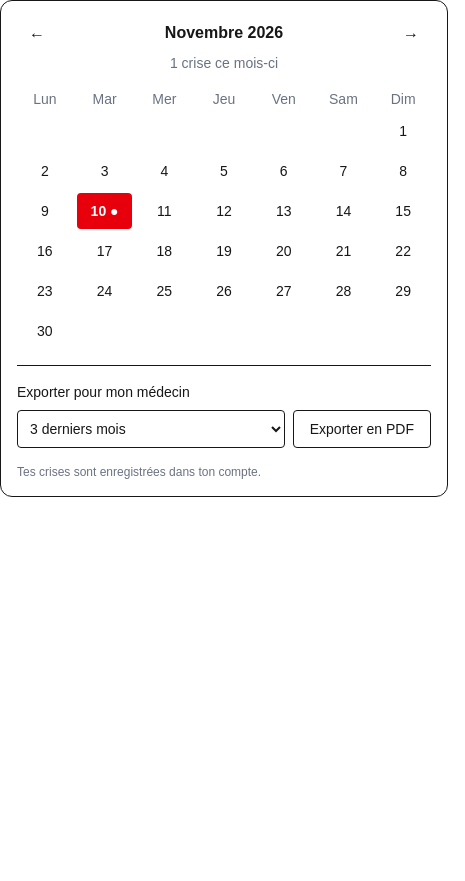
modification d'une crise › en mode personnel : appelle updateSeizure et affiche les nouvelles valeurs
Click the button "10 ●" at [105, 211], box [77,193,132,229]
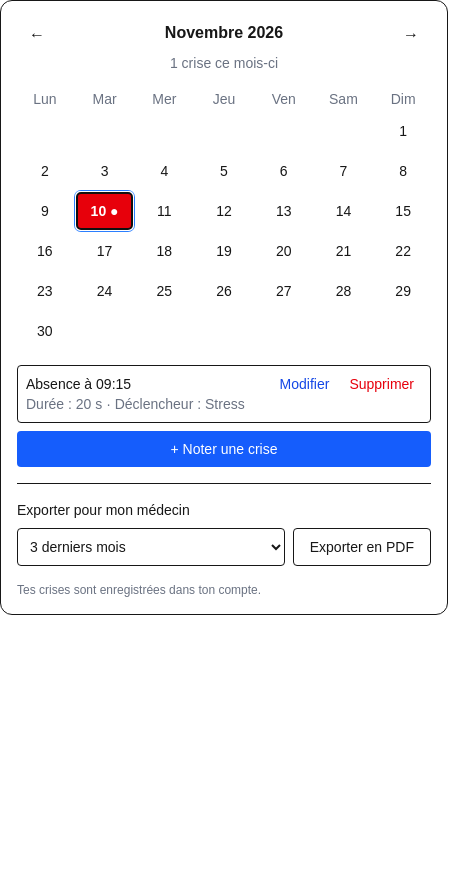
Click the button with aria-label "Modifier cette crise" at [304, 384], box [272,374,337,394]
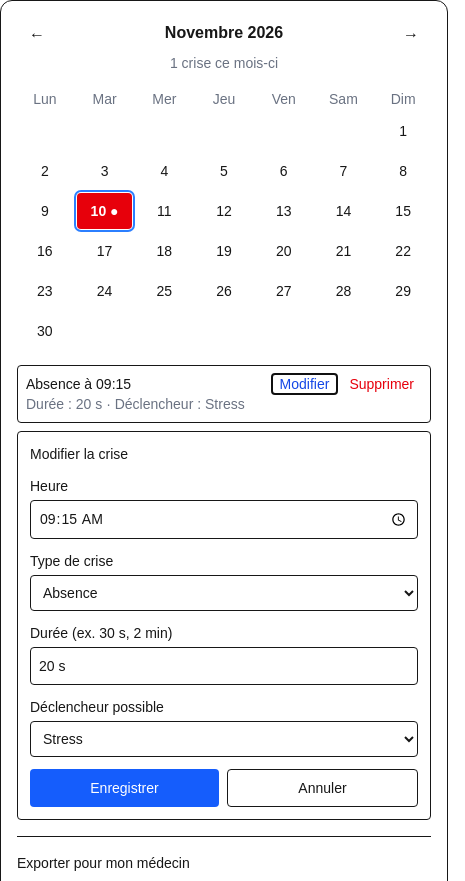
Replace the text in the field labelled "Durée (ex. 30 s, 2 min)" with "45 s" at [224, 666], box [30,647,418,685]
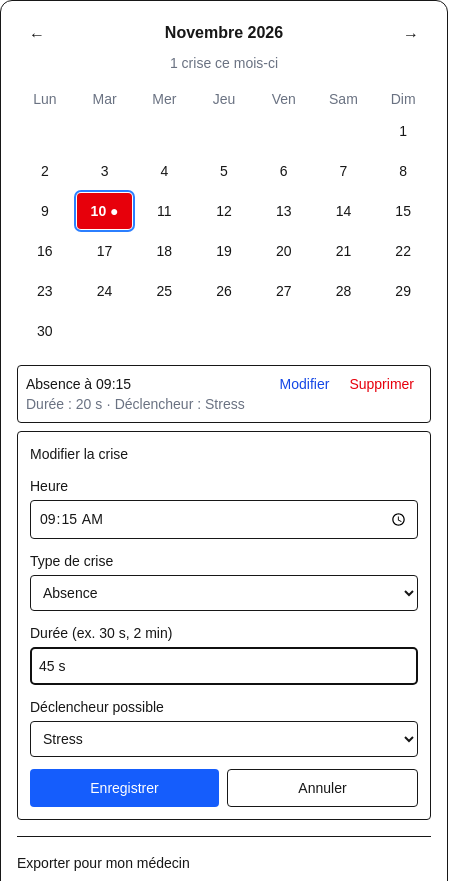
Click the button "Enregistrer" at [124, 788], box [30,769,219,807]
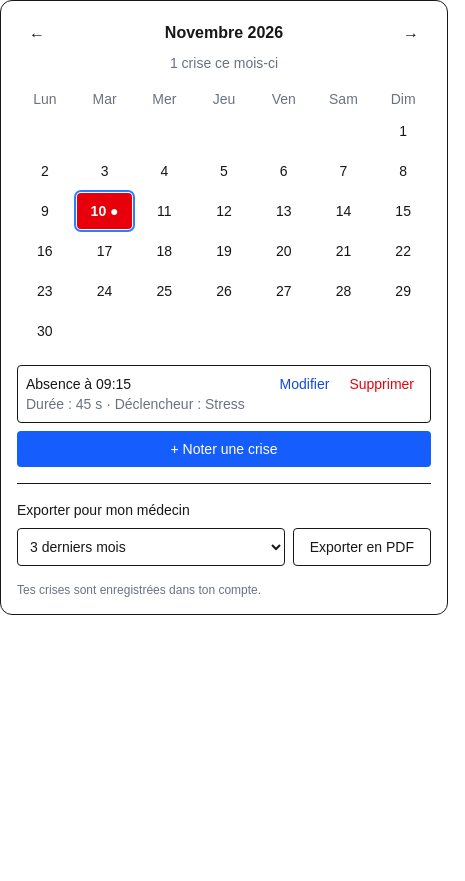
Expected: the text "Durée : 45 s · Déclencheur : Stress" is shown, [26,394,245,414]
Expected: the text "Modifier la crise" is gone
